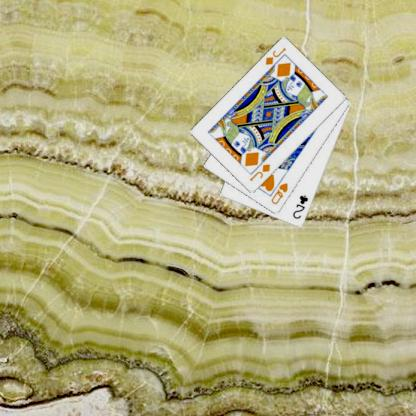2C: (290, 192, 309, 221)
JD: (247, 161, 272, 183), (262, 45, 288, 66)
QH: (268, 180, 289, 206)
